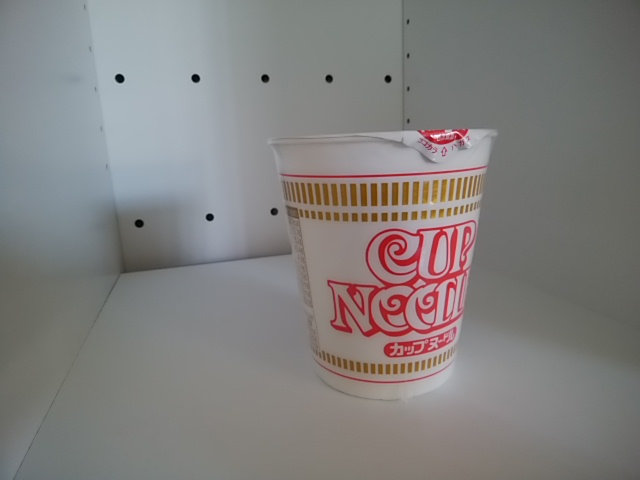cup-ramen: (265, 128, 508, 398)
